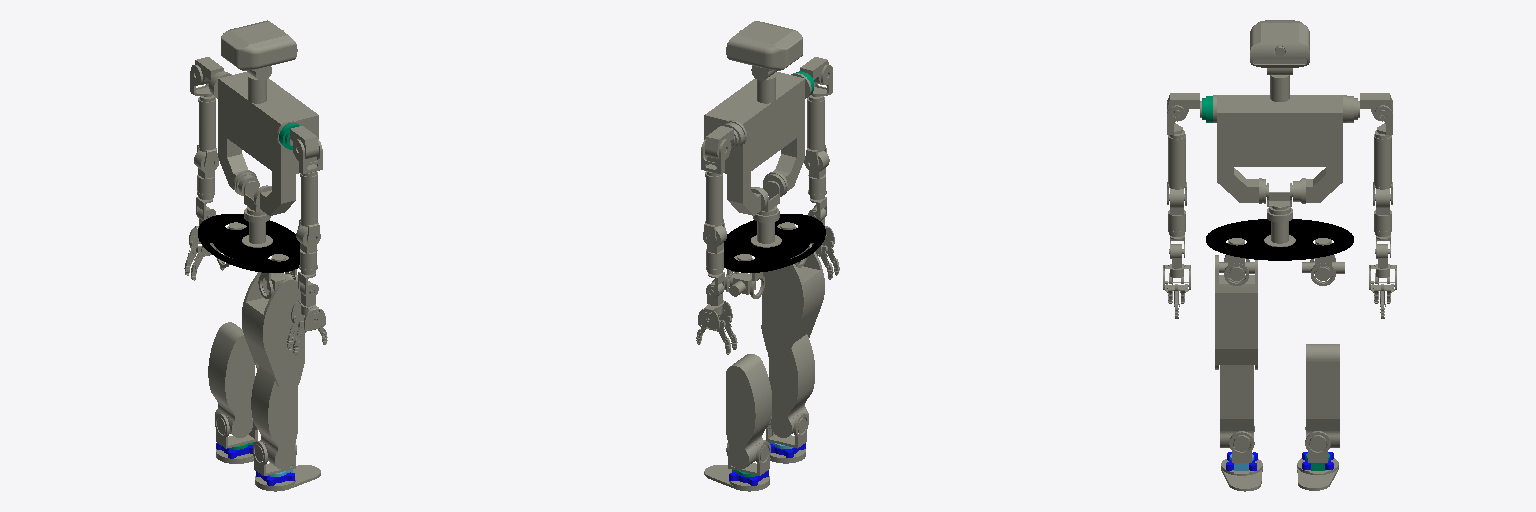
--- What the picture shows (computed from the rendered views, not written in the file) ---
The picture shows the robot from 3 angles, left to right: view 1: azimuth 30°, elevation 25°; view 2: azimuth 150°, elevation 25°; view 3: azimuth 270°, elevation 25°; orthographic projection.
Model teo with 31 links and 30 joints (28 revolute, 2 fixed), rooted at waist, posed all joints at 0.
Links seen in each view (by area): view 1: waist_pitch_link, r_femur_link, waist, l_tibia_link, r_tibia_link, head_pitch_link, r_wrist_pitch_link, l_shoulder_yaw_link, r_shoulder_yaw_link, r_sole, l_wrist_pitch_link, r_elbow_pitch_link (+6 smaller); view 2: waist_pitch_link, r_femur_link, waist, l_tibia_link, r_tibia_link, head_pitch_link, l_wrist_pitch_link, r_shoulder_yaw_link, l_shoulder_yaw_link, l_sole, l_elbow_pitch_link, r_wrist_pitch_link (+6 smaller); view 3: waist_pitch_link, waist, r_femur_link, l_tibia_link, head_pitch_link, r_tibia_link, l_shoulder_yaw_link, r_shoulder_yaw_link, l_wrist_pitch_link, r_wrist_pitch_link, r_sole, l_sole (+6 smaller).
Boxes of the visible links, left/top/right/bottom form: waist_pitch_link: left=209, top=71, right=318, bottom=215; r_femur_link: left=242, top=272, right=304, bottom=391; waist: left=198, top=206, right=299, bottom=272; l_tibia_link: left=208, top=322, right=254, bottom=437; r_tibia_link: left=251, top=365, right=297, bottom=469; head_pitch_link: left=221, top=20, right=297, bottom=80; r_wrist_pitch_link: left=287, top=281, right=327, bottom=355; l_shoulder_yaw_link: left=197, top=95, right=218, bottom=170; r_shoulder_yaw_link: left=298, top=171, right=320, bottom=244; r_sole: left=255, top=465, right=320, bottom=491; l_wrist_pitch_link: left=184, top=206, right=224, bottom=280; r_elbow_pitch_link: left=296, top=226, right=317, bottom=274; waist_pitch_link: left=704, top=71, right=813, bottom=215; r_femur_link: left=761, top=244, right=824, bottom=359; waist: left=724, top=206, right=825, bottom=272; l_tibia_link: left=726, top=354, right=771, bottom=468; r_tibia_link: left=768, top=334, right=814, bottom=437; head_pitch_link: left=726, top=21, right=802, bottom=80; l_wrist_pitch_link: left=696, top=281, right=737, bottom=354; r_shoulder_yaw_link: left=804, top=95, right=826, bottom=170; l_shoulder_yaw_link: left=703, top=171, right=725, bottom=244; l_sole: left=704, top=465, right=769, bottom=491; l_elbow_pitch_link: left=704, top=225, right=726, bottom=274; r_wrist_pitch_link: left=809, top=206, right=839, bottom=279; waist_pitch_link: left=1202, top=95, right=1357, bottom=203; waist: left=1206, top=207, right=1353, bottom=260; r_femur_link: left=1215, top=255, right=1257, bottom=369; l_tibia_link: left=1306, top=344, right=1339, bottom=447; head_pitch_link: left=1250, top=20, right=1309, bottom=77; r_tibia_link: left=1220, top=365, right=1253, bottom=447; l_shoulder_yaw_link: left=1373, top=130, right=1392, bottom=205; r_shoulder_yaw_link: left=1167, top=130, right=1186, bottom=205; l_wrist_pitch_link: left=1369, top=244, right=1396, bottom=318; r_wrist_pitch_link: left=1163, top=244, right=1190, bottom=318; r_sole: left=1221, top=452, right=1262, bottom=491; l_sole: left=1297, top=452, right=1338, bottom=490.
Size in the robot's own frame: 0.3506 by 0.7879 by 1.63 metres.
Meshes: 51 distinct files referenced, 50 mesh visuals loaded (50 binary STL); not drawn: 1 (reference not matched to a file when rendering).

robot.urdf — teo:
<?xml version="1.0" ?>
<!-- =================================================================================== -->
<!-- |    This document was autogenerated by xacro from teo_humanoid_attach.urdf.xacro | -->
<!-- |    EDITING THIS FILE BY HAND IS NOT RECOMMENDED                                 | -->
<!-- =================================================================================== -->
<!--
  ROS urdf definition of TEO humanoid robot
  
  Author: Domingo Esteban, Raul Fernandez Fernandez
  RoboticsLab, Universidad Carlos III de Madrid
  
  This file loads TEO model with a basic visualization.
  If you want to convert this xacro file into an urdf file:
  $ rosrun xacro xacro.py teo_humanoid_simple_vis.urdf.xacro > teo_humanoid.urdf
	If you want to generate a SDF file from the generated URDF: (Requires gazebo)
	$ gzsdf print teo_humanoid.urdf > teo_humanoid.sdf
-->
<robot name="teo" xmlns:xacro="http://ros.org/wiki/xacro">
  <!-- TEO parameters -->
  <!-- TEO structure -->
  <!-- Include useful constants -->
  <!-- Include joint transmissions -->
  <!-- Use TEO platform -->
  <!-- **** Torso - base_link **** -->
  <!-- The robot is attached to the base link "world"-->
  

  <!--

  <link name="world"/>


  
  <joint name="base_waist" type="floating">
    <parent link="world"/>
    <child link="waist"/>
  </joint>
  
  -->

  <!-- Definitions of parts of the robot body -->
  <!-- *** TEO TORSO PARAMETERS -->
  <!-- Relation Kg - Volume Unit -->
  <!-- Link lengths -->
  <!--xacro:property name="waist_link2" value="0.287" /-->
  <!-- Minimum angles -->
  <!-- Maximum angles -->
  <!-- Effort limit of the angles -->
  <!-- Velocity limit of the angles-->
  <!-- Damping of the joints-->
  <!-- Friction of the joints-->
  <!-- IT'S NOT USED IN GAZEBO-->
  <!-- Joint reductions-->
  <!-- *** TORSO TREE -->
  <!-- Links -->
  <link name="waist">
    <inertial>
      <origin rpy="0 0 0" xyz="0.0 0.0 0.030531"/>
      <!-- <origin xyz="-0.011195 0.000002 0.030531" rpy="0 0 0"/> -->
      <mass value="1.0"/>
      <inertia ixx="1.672965e-2" ixy="-4.1e-7" ixz="-4.0359e-4" iyy="8.75441e-3" iyz="8.0e-8" izz="0.020584"/>
    </inertial>
    <!--     <inertial>
      <origin xyz="0.0 0.0 0.57136" rpy="0 0 0"/>
      <mass value="5.7044"/>
      <inertia
        ixx="0.019" ixy="0.000" ixz="0.000"
        iyy="0.018" iyz="0.000"
        izz="0.008" />
    </inertial> -->
    <!--     <inertial>
      <origin xyz="-0.011195 0.000002 0.030531" rpy="0 0 0"/>
      <mass value="1.0"/>
      <inertia
        ixx="1.672965e-5" ixy="-4.1e-10" ixz="-4.0359e-7"
        iyy="8.75441e-6" iyz="8.0e-11"
        izz="0.000020584" />
    </inertial> -->
    <visual>
      <origin rpy="0 0 0" xyz="0 0 0"/>
      <geometry>
        <mesh filename="package://teo_description/meshes/torso/waist-base.stl"/>
      </geometry>
      <material name="teoBlack"/>
    </visual>
    <collision>
      <origin rpy="0 0 0" xyz="0 0 0"/>
      <geometry>
        <mesh filename="package://teo_description/meshes/torso/waist-base.stl"/>
      </geometry>
    </collision>
    <visual>
      <origin rpy="0 0 0" xyz="0 0 0.07336"/>
      <geometry>
        <mesh filename="package://teo_description/meshes/torso/waist-link.stl"/>
      </geometry>
      <material name="teoGray"/>
    </visual>
    <collision>
      <origin rpy="0 0 0" xyz="0 0 0.07336"/>
      <geometry>
        <mesh filename="package://teo_description/meshes/torso/waist-link.stl"/>
      </geometry>
    </collision>
  </link>
  <link name="waist_yaw_link">
    <inertial>
      <origin rpy="0 0 0" xyz="0.0 0.0 -0.024630"/>
      <!-- <origin xyz="-0.004091 -0.001037 -0.024630" rpy="0 0 0"/> -->
      <!-- <mass value="${prop_torso_kg_motor_vol_unit*0.000142}"/> -->
      <mass value="1.0"/>
      <!--     <inertia
			  ixx="0.66667" ixy="-0.25" ixz="-0.25"
				iyy="0.66667" iyz="-0.25"
				izz="0.66667" /> -->
      <!--       <inertia
        ixx="2.8026e-4" ixy="-2.9e-7" ixz="-4.22e-6"
        iyy="1.275e-4" iyz="4.4e-7"
        izz="2.0857e-4" /> -->
      <inertia ixx="0.028026e-2" ixy="-0.000029e-2" ixz="-0.000422e-2" iyy="0.012750e-2" iyz="0.000044e-2" izz="0.020857e-2"/>
    </inertial>
    <visual>
      <origin rpy="0 0 0" xyz="0 0 -0.001"/>
      <geometry>
        <mesh filename="package://teo_description/meshes/torso/waist-yaw.stl"/>
      </geometry>
      <material name="teoGray"/>
    </visual>
    <collision>
      <origin rpy="0 0 0" xyz="0 0 -0.001"/>
      <geometry>
        <mesh filename="package://teo_description/meshes/torso/waist-yaw.stl"/>
      </geometry>
    </collision>
  </link>
  <link name="waist_pitch_link">
    <inertial>
      <origin rpy="0 0 0" xyz="0.038788 -0.000008 0.221233"/>
      <!-- <origin xyz="0.0 -0.0 0.221233" rpy="0 0 0"/> -->
      <mass value="1.0"/>
      <!-- <inertia
        ixx="0.3563817" ixy="-5.5E-6" ixz="-0.014295"
        iyy="0.1422663" iyz="-2.205e-5" 
        izz="0.2704611" />
    </inertial> -->
      <inertia ixx="0.100973e-2" ixy="0.0" ixz="0.0" iyy="0.019175e-2" iyz="0.0" izz="0.100972e-2"/>
    </inertial>
    <visual>
      <origin rpy="0 0 0" xyz="0 0 0"/>
      <geometry>
        <mesh filename="package://teo_description/meshes/torso/waist-pitch.stl"/>
      </geometry>
      <material name="teoGray"/>
    </visual>
    <collision>
      <origin rpy="0 0 0" xyz="0 0 0"/>
      <geometry>
        <mesh filename="package://teo_description/meshes/torso/waist-pitch.stl"/>
      </geometry>
      <material name="teoGray"/>
    </collision>
    <visual>
      <origin rpy="0 0 0" xyz="0 0 0.06"/>
      <geometry>
        <mesh filename="package://teo_description/meshes/torso/torso.stl"/>
      </geometry>
      <material name="teoGray"/>
    </visual>
    <collision>
      <origin rpy="0 0 0" xyz="0 0 0.06"/>
      <geometry>
        <mesh filename="package://teo_description/meshes/torso/torso.stl"/>
      </geometry>
    </collision>
    <visual>
      <origin rpy="0 0 0" xyz="0 0.25486 0.305"/>
      <geometry>
        <mesh filename="package://teo_description/meshes/torso/L-torso-shoulder.stl"/>
      </geometry>
      <material name="teoGray"/>
    </visual>
    <collision>
      <origin rpy="0 0 0" xyz="0 0.25486 0.305"/>
      <geometry>
        <mesh filename="package://teo_description/meshes/torso/L-torso-shoulder.stl"/>
      </geometry>
    </collision>
    <visual>
      <origin rpy="0 0 0" xyz="0 -0.25486 0.305"/>
      <geometry>
        <mesh filename="package://teo_description/meshes/torso/R-torso-shoulder.stl"/>
      </geometry>
      <material name="LightGrey"/>
    </visual>
    <collision>
      <origin rpy="0 0 0" xyz="0 -0.25486 0.305"/>
      <geometry>
        <mesh filename="package://teo_description/meshes/torso/R-torso-shoulder.stl"/>
      </geometry>
    </collision>
  </link>
  <!-- Joints -->
  <joint name="waist_yaw" type="revolute">
    <parent link="waist"/>
    <child link="waist_yaw_link"/>
    <origin rpy="0 0 0" xyz="0.0 0 0.1932"/>
    <axis xyz="0 0 1"/>
    <limit effort="30.0" lower="-0.785398163397" upper="0.785398163397" velocity="3.0"/>
  </joint>
  <joint name="waist_pitch" type="revolute">
    <parent link="waist_yaw_link"/>
    <child link="waist_pitch_link"/>
    <origin rpy="0 0 0" xyz="-0.0 0 0"/>
    <axis xyz="0 1 0"/>
    <limit effort="30.0" lower="-0.174532925199" upper="0.174532925199" velocity="3.0"/>
  </joint>
  <transmission name="waist_yaw_trans">
    <type>transmission_interface/SimpleTransmission</type>
    <joint name="waist_yaw">
      <hardwareInterface>PositionJointInterface</hardwareInterface>
    </joint>
    <actuator name="waist_yaw_motor">
      <mechanicalReduction>1.0</mechanicalReduction>
    </actuator>
  </transmission>
  <transmission name="waist_pitch_trans">
    <type>transmission_interface/SimpleTransmission</type>
    <joint name="waist_pitch">
      <hardwareInterface>PositionJointInterface</hardwareInterface>
    </joint>
    <actuator name="waist_pitch_motor">
      <mechanicalReduction>1.0</mechanicalReduction>
    </actuator>
  </transmission>
  <!-- *** TEO HEAD PARAMETERS -->
  <!-- Relation Kg - Volume Unit -->
  <!-- Link lengths -->
  <!--xacro:property name="waist_link2" value="0.287" /-->
  <!-- head_link2 is an approximate value, right now this value is not relevant /-->
  <!-- Minimum angles -->
  <!-- Maximum angles -->
  <!-- Effort limit of the angles -->
  <!-- Velocity limit of the angles-->
  <!-- Damping of the joints-->
  <!-- Friction of the joints-->
  <!-- IT'S NOT USED IN GAZEBO-->
  <!-- Joint reductions-->
  <!-- *** HEAD TREE -->
  <!-- Links -->
  <link name="head_yaw_link">
    <inertial>
      <origin rpy="0 0 0" xyz="0.0 0.0 -0.045"/>
      <mass value="1.0"/>
      <inertia ixx="0.028026e-2" ixy="-0.0" ixz="-0.0" iyy="0.028026e-2" iyz="0.0" izz="0.015756e-2"/>
    </inertial>
    <visual>
      <origin rpy="0 0 0" xyz="0 0 0.041"/>
      <geometry>
        <mesh filename="package://teo_description/meshes/head/neck.stl"/>
      </geometry>
      <material name="teoGray"/>
    </visual>
    <collision>
      <origin rpy="0 0 0" xyz="0 0 0.041"/>
      <geometry>
        <mesh filename="package://teo_description/meshes/head/neck.stl"/>
      </geometry>
    </collision>
  </link>
  <link name="head_pitch_link">
    <inertial>
      <origin rpy="0 0 0" xyz="-0.004280 0.0 0.105394"/>
      <mass value="1.0"/>
      <inertia ixx="1.469540" ixy="-0.000003" ixz="-0.012716" iyy="1.610027" iyz="0.000005" izz="2.205351"/>
    </inertial>
    <visual>
      <origin rpy="0 0 0" xyz="0 0 0"/>
      <geometry>
        <mesh filename="package://teo_description/meshes/head/head.stl"/>
      </geometry>
      <material name="teoGray"/>
    </visual>
    <collision>
      <origin rpy="0 0 0" xyz="0 0 0"/>
      <geometry>
        <mesh filename="package://teo_description/meshes/head/head.stl"/>
      </geometry>
    </collision>
  </link>
  <!-- Joints -->
  <joint name="head_yaw" type="revolute">
    <parent link="waist_pitch_link"/>
    <child link="head_yaw_link"/>
    <origin rpy="0 0 0" xyz="0 0 0.305"/>
    <axis xyz="0 0 1"/>
    <limit effort="30.0" lower="-0.506145483078" upper="0.146607657168" velocity="3.0"/>
  </joint>
  <joint name="head_pitch" type="revolute">
    <parent link="head_yaw_link"/>
    <child link="head_pitch_link"/>
    <origin rpy="0 0 0" xyz="0 0 0.13"/>
    <axis xyz="0 1 0"/>
    <limit effort="30.0" lower="-1.27409035396" upper="1.27409035396" velocity="3.0"/>
  </joint>
  <transmission name="waist_yaw_trans">
    <type>transmission_interface/SimpleTransmission</type>
    <joint name="waist_yaw">
      <hardwareInterface>PositionJointInterface</hardwareInterface>
    </joint>
    <actuator name="waist_yaw_motor">
      <mechanicalReduction>1.0</mechanicalReduction>
    </actuator>
  </transmission>
  <transmission name="waist_pitch_trans">
    <type>transmission_interface/SimpleTransmission</type>
    <joint name="waist_pitch">
      <hardwareInterface>PositionJointInterface</hardwareInterface>
    </joint>
    <actuator name="waist_pitch_motor">
      <mechanicalReduction>1.0</mechanicalReduction>
    </actuator>
  </transmission>
  <!-- *** TEO LEG PARAMETERS -->
  <!-- Relation Kg - Volume Unit -->
  <!-- Relation Kg - Volume Unit -->
  <!-- Relation Kg - Volume Unit -->
  <!-- Link lengths -->
  <!-- Hip -->
  <!-- Hip -->
  <!-- Femur -->
  <!-- Tibia -->
  <!-- Patella -->
  <!-- Astragalus -->
  <!-- Minimum angles right leg -->
  <!-- Maximum angles right leg -->
  <!-- Effort limit of the angles -->
  <!-- Velocity limit of the angles-->
  <!-- Damping of the joints-->
  <!-- Friction of the joints-->
  <!-- IT'S NOT USED IN GAZEBO-->
  <!-- Joint reductions-->
  <!-- *** TEO LEG MACROS -->
  <!-- Links -->
  <!-- Joints -->
  <link name="l_hip_yaw_link">
    <inertial>
      <origin rpy="0 0 0" xyz="0.0 -0.0 0.0"/>
      <mass value="1.0"/>
      <inertia ixx="3.4076E-4" ixy="-0.0" ixz="5.4E-7" iyy="5.7638E-4" iyz="-0.0" izz="0.037186e-2"/>
    </inertial>
    <visual>
      <origin rpy="0 0 0" xyz="0 0 0"/>
      <geometry>
        <mesh filename="package://teo_description/meshes/legs/l_hip_yaw.stl"/>
      </geometry>
      <material name="teoGray"/>
    </visual>
    <collision>
      <origin rpy="0 0 0" xyz="0 0 0"/>
      <geometry>
        <mesh filename="package://teo_description/meshes/legs/l_hip_yaw.stl"/>
      </geometry>
    </collision>
  </link>
  <link name="l_hip_roll_link">
    <inertial>
      <origin rpy="0 0 0" xyz="0.0 -0.0 -0.017753"/>
      <mass value="1.0"/>
      <inertia ixx="3.6847E-4" ixy="-4.34e-06" ixz="1.0E-8" iyy="1.9052E-4" iyz="-0.0" izz="4.5536E-4"/>
    </inertial>
    <visual>
      <origin rpy="0 0 0" xyz="0 0 0"/>
      <geometry>
        <mesh filename="package://teo_description/meshes/legs/l_hip_pitch.stl"/>
      </geometry>
      <material name="teoGray"/>
    </visual>
    <collision>
      <origin rpy="0 0 0" xyz="0 0 0"/>
      <geometry>
        <mesh filename="package://teo_description/meshes/legs/l_hip_pitch.stl"/>
      </geometry>
    </collision>
  </link>
  <link name="l_femur_link">
    <inertial>
      <origin rpy="0 0 0" xyz="0.0 -0.0 -0.17257"/>
      <mass value="1.0"/>
      <inertia ixx="4.453648E-2" ixy="1e-08" ixz="0.00130498" iyy="4.46349E-2" iyz="-4e-08" izz="2.207083E-2"/>
    </inertial>
    <visual>
      <origin rpy="0 0 0" xyz="0 0 0"/>
      <geometry>
        <mesh filename="package://teo_description/meshes/legs/l_femur.stl"/>
      </geometry>
      <material name="teoGray"/>
    </visual>
    <collision>
      <origin rpy="0 0 0" xyz="0 0 0"/>
      <geometry>
        <mesh filename="package://teo_description/meshes/legs/l_femur.stl"/>
      </geometry>
    </collision>
  </link>
  <link name="l_tibia_link">
    <inertial>
      <origin rpy="0 0 0" xyz="0.0 -0.0 -0.142721"/>
      <mass value="1.0"/>
      <inertia ixx="4.644211E-2" ixy="-0.0" ixz="-7.32E-6" iyy="4.548272E-2" iyz="1e-08" izz="8.16616E-3"/>
    </inertial>
    <visual>
      <origin rpy="0 0 0" xyz="0.0 0.0 0.0"/>
      <geometry>
        <mesh filename="package://teo_description/meshes/legs/l_tibia.stl"/>
      </geometry>
      <material name="teoGray"/>
    </visual>
    <collision>
      <origin rpy="0 0 0" xyz="0.0 0.0 0.0"/>
      <geometry>
        <mesh filename="package://teo_description/meshes/legs/l_tibia.stl"/>
      </geometry>
    </collision>
  </link>
  <link name="l_ankle_pitch_link">
    <inertial>
      <origin rpy="0 0 0" xyz="0.0 -0.0 0.028198"/>
      <mass value="1.0"/>
      <inertia ixx="0.010237e-2" ixy="-1.4e-05" ixz="0.0" iyy="0.035107e-2" iyz="0.0" izz="0.035006e-2"/>
    </inertial>
    <visual>
      <origin rpy="0 0 0" xyz="0 0 0"/>
      <geometry>
        <mesh filename="package://teo_description/meshes/legs/l_ankle_pitch.stl"/>
      </geometry>
      <material name="teoGray"/>
    </visual>
    <collision>
      <origin rpy="0 0 0" xyz="0 0 0"/>
      <geometry>
        <mesh filename="package://teo_description/meshes/legs/l_ankle_pitch.stl"/>
      </geometry>
    </collision>
  </link>
  <link name="l_astragalus_link">
    <inertial>
      <origin rpy="0 0 0" xyz="0.0 -0.0 -0.042127"/>
      <mass value="1.0"/>
      <inertia ixx="2.6324E-4" ixy="-0.0" ixz="7.4E-6" iyy="0.000571" iyz="-0.0" izz="4.633E-4"/>
    </inertial>
    <visual>
      <origin rpy="0 0 0" xyz="0 0 0"/>
      <geometry>
        <mesh filename="package://teo_description/meshes/legs/l_ankle_roll.stl"/>
      </geometry>
      <material name="teoGray"/>
    </visual>
    <collision>
      <origin rpy="0 0 0" xyz="0 0 0"/>
      <geometry>
        <mesh filename="package://teo_description/meshes/legs/l_ankle_roll.stl"/>
      </geometry>
    </collision>
    <visual>
      <origin rpy="0 0 0" xyz="0 0 -0.073"/>
      <geometry>
        <mesh filename="package://teo_description/meshes/legs/l_ankle_sensorFT.stl"/>
      </geometry>
    </visual>
    <collision>
      <origin rpy="0 0 0" xyz="0 0 -0.073"/>
      <geometry>
        <mesh filename="package://teo_description/meshes/legs/l_ankle_sensorFT.stl"/>
      </geometry>
    </collision>
  </link>
  <link name="l_sole">
    <inertial>
      <origin rpy="0 0 0" xyz="0.022629 -0.002448 0.011325"/>
      <mass value="1.0"/>
      <inertia ixx="0.065992e-2" ixy="-0.00010716" ixz="0.008960e-2" iyy="0.167825e-2" iyz="8.47e-06" izz="0.225319e-2"/>
    </inertial>
    <visual>
      <origin rpy="0 0 0" xyz="0 0 0"/>
      <geometry>
        <mesh filename="package://teo_description/meshes/legs/l_foot.stl"/>
      </geometry>
      <material name="teoGray"/>
    </visual>
    <collision>
      <origin rpy="0 0 0" xyz="0 0 0"/>
      <geometry>
        <mesh filename="package://teo_description/meshes/legs/l_foot.stl"/>
      </geometry>
    </collision>
    <visual>
      <origin rpy="0 0 0" xyz="0 0 0"/>
      <geometry>
        <mesh filename="package://teo_description/meshes/legs/l_union_sensorFT_foot.stl"/>
      </geometry>
      <material name="teoBlue"/>
    </visual>
    <collision>
      <origin rpy="0 0 0" xyz="0 0 0"/>
      <geometry>
        <mesh filename="package://teo_description/meshes/legs/l_union_sensorFT_foot.stl"/>
      </geometry>
    </collision>
  </link>
  <link name="r_hip_yaw_link">
    <inertial>
      <origin rpy="0 0 0" xyz="0.0 0.0 0.0"/>
      <mass value="1.0"/>
      <inertia ixx="3.4076E-4" ixy="0.0" ixz="5.4E-7" iyy="5.7638E-4" iyz="0.0" izz="0.037186e-2"/>
    </inertial>
    <visual>
      <origin rpy="0 0 0" xyz="0 0 0"/>
      <geometry>
        <mesh filename="package://teo_description/meshes/legs/r_hip_yaw.stl"/>
      </geometry>
      <material name="teoGray"/>
    </visual>
    <collision>
      <origin rpy="0 0 0" xyz="0 0 0"/>
      <geometry>
        <mesh filename="package://teo_description/meshes/legs/r_hip_yaw.stl"/>
      </geometry>
    </collision>
  </link>
  <link name="r_hip_roll_link">
    <inertial>
      <origin rpy="0 0 0" xyz="0.0 0.0 -0.017753"/>
      <mass value="1.0"/>
      <inertia ixx="3.6847E-4" ixy="4.34e-06" ixz="1.0E-8" iyy="1.9052E-4" iyz="0.0" izz="4.5536E-4"/>
    </inertial>
    <visual>
      <origin rpy="0 0 0" xyz="0 0 0"/>
      <geometry>
        <mesh filename="package://teo_description/meshes/legs/r_hip_pitch.stl"/>
      </geometry>
      <material name="teoGray"/>
    </visual>
    <collision>
      <origin rpy="0 0 0" xyz="0 0 0"/>
      <geometry>
        <mesh filename="package://teo_description/meshes/legs/r_hip_pitch.stl"/>
      </geometry>
    </collision>
  </link>
  <link name="r_femur_link">
    <inertial>
      <origin rpy="0 0 0" xyz="0.0 0.0 -0.17257"/>
      <mass value="1.0"/>
      <inertia ixx="4.453648E-2" ixy="-1e-08" ixz="0.00130498" iyy="4.46349E-2" iyz="4e-08" izz="2.207083E-2"/>
    </inertial>
    <visual>
      <origin rpy="0 0 0" xyz="0 0 0"/>
      <geometry>
        <mesh filename="package://teo_description/meshes/legs/r_femur.stl"/>
      </geometry>
      <material name="teoGray"/>
    </visual>
    <collision>
      <origin rpy="0 0 0" xyz="0 0 0"/>
      <geometry>
        <mesh filename="package://teo_description/meshes/legs/r_femur.stl"/>
      </geometry>
    </collision>
  </link>
  <link name="r_tibia_link">
    <inertial>
      <origin rpy="0 0 0" xyz="0.0 0.0 -0.142721"/>
      <mass value="1.0"/>
      <inertia ixx="4.644211E-2" ixy="0.0" ixz="-7.32E-6" iyy="4.548272E-2" iyz="-1e-08" izz="8.16616E-3"/>
    </inertial>
    <visual>
      <origin rpy="0 0 0" xyz="0.0 0.0 0.0"/>
      <geometry>
        <mesh filename="package://teo_description/meshes/legs/r_tibia.stl"/>
      </geometry>
      <material name="teoGray"/>
    </visual>
    <collision>
      <origin rpy="0 0 0" xyz="0.0 0.0 0.0"/>
      <geometry>
        <mesh filename="package://teo_description/meshes/legs/r_tibia.stl"/>
      </geometry>
    </collision>
  </link>
  <link name="r_ankle_pitch_link">
    <inertial>
      <origin rpy="0 0 0" xyz="0.0 0.0 0.028198"/>
      <mass value="1.0"/>
      <inertia ixx="0.010237e-2" ixy="1.4e-05" ixz="0.0" iyy="0.035107e-2" iyz="-0.0" izz="0.035006e-2"/>
    </inertial>
    <visual>
      <origin rpy="0 0 0" xyz="0 0 0"/>
      <geometry>
        <mesh filename="package://teo_description/meshes/legs/r_ankle_pitch.stl"/>
      </geometry>
      <material name="teoGray"/>
    </visual>
    <collision>
      <origin rpy="0 0 0" xyz="0 0 0"/>
      <geometry>
        <mesh filename="package://teo_description/meshes/legs/r_ankle_pitch.stl"/>
      </geometry>
    </collision>
  </link>
  <link name="r_astragalus_link">
    <inertial>
      <origin rpy="0 0 0" xyz="0.0 0.0 -0.042127"/>
      <mass value="1.0"/>
      <inertia ixx="2.6324E-4" ixy="0.0" ixz="7.4E-6" iyy="0.000571" iyz="0.0" izz="4.633E-4"/>
    </inertial>
    <visual>
      <origin rpy="0 0 0" xyz="0 0 0"/>
      <geometry>
        <mesh filename="package://teo_description/meshes/legs/r_ankle_roll.stl"/>
      </geometry>
      <material name="teoGray"/>
    </visual>
    <collision>
      <origin rpy="0 0 0" xyz="0 0 0"/>
      <geometry>
        <mesh filename="package://teo_description/meshes/legs/r_ankle_roll.stl"/>
      </geometry>
    </collision>
    <visual>
      <origin rpy="0 0 0" xyz="0 0 -0.073"/>
      <geometry>
        <mesh filename="package://teo_description/meshes/legs/r_ankle_sensorFT.stl"/>
      </geometry>
    </visual>
    <collision>
      <origin rpy="0 0 0" xyz="0 0 -0.073"/>
      <geometry>
        <mesh filename="package://teo_description/meshes/legs/r_ankle_sensorFT.stl"/>
      </geometry>
    </collision>
  </link>
  <link name="r_sole">
    <inertial>
      <origin rpy="0 0 0" xyz="0.022629 0.002448 0.011325"/>
      <mass value="1.0"/>
      <inertia ixx="0.065992e-2" ixy="0.00010716" ixz="0.008960e-2" iyy="0.167825e-2" iyz="-8.47e-06" izz="0.225319e-2"/>
    </inertial>
    <visual>
      <origin rpy="0 0 0" xyz="0 0 0"/>
      <geometry>
        <mesh filename="package://teo_description/meshes/legs/r_foot.stl"/>
      </geometry>
      <material name="teoGray"/>
    </visual>
    <collision>
      <origin rpy="0 0 0" xyz="0 0 0"/>
      <geometry>
        <mesh filename="package://teo_description/meshes/legs/r_foot.stl"/>
      </geometry>
    </collision>
    <visual>
      <origin rpy="0 0 0" xyz="0 0 0"/>
      <geometry>
        <mesh filename="package://teo_description/meshes/legs/r_union_sensorFT_foot.stl"/>
      </geometry>
      <material name="teoBlue"/>
    </visual>
    <collision>
      <origin rpy="0 0 0" xyz="0 0 0"/>
      <geometry>
        <mesh filename="package://teo_description/meshes/legs/r_union_sensorFT_foot.stl"/>
      </geometry>
    </collision>
  </link>
  <joint name="l_hip_yaw" type="revolute">
    <parent link="waist"/>
    <child link="l_hip_yaw_link"/>
    <origin rpy="0 0 0" xyz="0 0.146 -0.092"/>
    <axis xyz="0 0 1.0"/>
    <limit effort="45.0" lower="-1.57079632679" upper="1.57079632679" velocity="4.0"/>
    <dynamics damping="1.0" friction="1.0"/>
  </joint>
  <joint name="l_hip_roll" type="revolute">
    <parent link="l_hip_yaw_link"/>
    <child link="l_hip_roll_link"/>
    <origin rpy="0 0 0" xyz="0 0 0"/>
    <axis xyz="-1 0 0"/>
    <limit effort="65.0" lower="-0.349065850399" upper="0.349065850399" velocity="4.0"/>
    <dynamics damping="1.0" friction="1.0"/>
  </joint>
  <joint name="l_hip_pitch" type="revolute">
    <parent link="l_hip_roll_link"/>
    <child link="l_femur_link"/>
    <origin rpy="0 0 0" xyz="0 0 0"/>
    <axis xyz="0 1 0"/>
    <limit effort="60.0" lower="-0.523598775598" upper="0.785398163397" velocity="4.0"/>
    <dynamics damping="1.0" friction="1.0"/>
  </joint>
  <joint name="l_knee_pitch" type="revolute">
    <parent link="l_femur_link"/>
    <child link="l_tibia_link"/>
    <origin rpy="0 0 0" xyz="0 0 -0.33"/>
    <axis xyz="0 1 0"/>
    <limit effort="140.0" lower="-0.0872664625997" upper="1.3962634016" velocity="4.0"/>
    <dynamics damping="1.0" friction="1.0"/>
  </joint>
  <joint name="l_ankle_pitch" type="revolute">
    <parent link="l_tibia_link"/>
    <child link="l_ankle_pitch_link"/>
    <origin rpy="0 0 0" xyz="0 -0.0175 -0.3"/>
    <axis xyz="0 1 0"/>
    <limit effort="85.0" lower="-0.314159265359" upper="0.349065850399" velocity="4.0"/>
    <dynamics damping="1.0" friction="1.0"/>
  </joint>
  <joint name="l_ankle_roll" type="revolute">
    <parent link="l_ankle_pitch_link"/>
    <child link="l_astragalus_link"/>
    <origin rpy="0 0 0" xyz="0 0 0"/>
    <axis xyz="-1 0 0"/>
    <limit effort="65.0" lower="-0.436332312999" upper="0.436332312999" velocity="4.0"/>
    <dynamics damping="1.0" friction="1.0"/>
  </joint>
  <joint name="l_sole_joint" type="fixed">
    <parent link="l_astragalus_link"/>
    <child link="l_sole"/>
    <origin rpy="0 0 0" xyz="0 0 -0.124"/>
  </joint>
  <!-- <joint name="${side}_sole_fixed" type="fixed">	    
      <parent link="world"/>    
      <child link="${side}_sole"/>
    </joint> -->
  <!--TODO: Delete the fixed joints using a /map->/base_link publisher for the control-->
  <transmission name="l_hip_yaw_trans">
    <type>transmission_interface/SimpleTransmission</type>
    <joint name="l_hip_yaw">
      <hardwareInterface>PositionJointInterface</hardwareInterface>
    </joint>
    <actuator name="l_hip_yaw_motor">
      <hardwareInterface>PositionJointInterface</hardwareInterface>
      <mechanicalReduction>1.0</mechanicalReduction>
    </actuator>
  </transmission>
  <transmission name="l_hip_roll_trans">
    <type>transmission_interface/SimpleTransmission</type>
    <joint name="l_hip_roll">
      <hardwareInterface>PositionJointInterface</hardwareInterface>
    </joint>
    <actuator name="l_hip_roll_motor">
      <hardwareInterface>PositionJointInterface</hardwareInterface>
      <mechanicalReduction>1.0</mechanicalReduction>
    </actuator>
  </transmission>
  <transmission name="l_hip_pitch_trans">
    <type>transmission_interface/SimpleTransmission</type>
    <joint name="l_hip_pitch">
      <hardwareInterface>PositionJointInterface</hardwareInterface>
    </joint>
    <actuator name="l_hip_pitch_motor">
      <hardwareInterface>PositionJointInterface</hardwareInterface>
      <mechanicalReduction>1.0</mechanicalReduction>
    </actuator>
  </transmission>
  <transmission name="l_knee_pitch_trans">
    <type>transmission_interface/SimpleTransmission</type>
    <joint name="l_knee_pitch">
      <hardwareInterface>PositionJointInterface</hardwareInterface>
    </joint>
    <actuator name="l_knee_pitch_motor">
      <hardwareInterface>PositionJointInterface</hardwareInterface>
      <mechanicalReduction>1.0</mechanicalReduction>
    </actuator>
  </transmission>
  <transmission name="l_ankle_pitch_trans">
    <type>transmission_interface/SimpleTransmission</type>
    <joint name="l_ankle_pitch">
      <hardwareInterface>PositionJointInterface</hardwareInterface>
    </joint>
    <actuator name="l_ankle_pitch_motor">
      <hardwareInterface>PositionJointInterface</hardwareInterface>
      <mechanicalReduction>1.0</mechanicalReduction>
    </actuator>
  </transmission>
  <transmission name="l_ankle_roll_trans">
    <type>transmission_interface/SimpleTransmission</type>
    <joint name="l_ankle_roll">
      <hardwareInterface>PositionJointInterface</hardwareInterface>
    </joint>
    <actuator name="l_ankle_roll_motor">
      <hardwareInterface>PositionJointInterface</hardwareInterface>
      <mechanicalReduction>1.0</mechanicalReduction>
    </actuator>
  </transmission>
  <joint name="r_hip_yaw" type="revolute">
    <parent link="waist"/>
    <child link="r_hip_yaw_link"/>
    <origin rpy="0 0 0" xyz="0 -0.146 -0.092"/>
    <axis xyz="0 0 -1.0"/>
    <limit effort="45.0" lower="-1.57079632679" upper="1.57079632679" velocity="4.0"/>
    <dynamics damping="1.0" friction="1.0"/>
  </joint>
  <joint name="r_hip_roll" type="revolute">
    <parent link="r_hip_yaw_link"/>
    <child link="r_hip_roll_link"/>
    <origin rpy="0 0 0" xyz="0 0 0"/>
    <axis xyz="-1 0 0"/>
    <limit effort="65.0" lower="-0.349065850399" upper="0.349065850399" velocity="4.0"/>
    <dynamics damping="1.0" friction="1.0"/>
  </joint>
  <joint name="r_hip_pitch" type="revolute">
    <parent link="r_hip_roll_link"/>
    <child link="r_femur_link"/>
    <origin rpy="0 0 0" xyz="0 0 0"/>
    <axis xyz="0 1 0"/>
    <limit effort="60.0" lower="-0.523598775598" upper="0.785398163397" velocity="4.0"/>
    <dynamics damping="1.0" friction="1.0"/>
  </joint>
  <joint name="r_knee_pitch" type="revolute">
    <parent link="r_femur_link"/>
    <child link="r_tibia_link"/>
    <origin rpy="0 0 0" xyz="0 0 -0.33"/>
    <axis xyz="0 1 0"/>
    <limit effort="140.0" lower="-0.0872664625997" upper="1.3962634016" velocity="4.0"/>
    <dynamics damping="1.0" friction="1.0"/>
  </joint>
  <joint name="r_ankle_pitch" type="revolute">
    <parent link="r_tibia_link"/>
    <child link="r_ankle_pitch_link"/>
    <origin rpy="0 0 0" xyz="0 0.0175 -0.3"/>
    <axis xyz="0 1 0"/>
    <limit effort="85.0" lower="-0.314159265359" upper="0.349065850399" velocity="4.0"/>
    <dynamics damping="1.0" friction="1.0"/>
  </joint>
  <joint name="r_ankle_roll" type="revolute">
    <parent link="r_ankle_pitch_link"/>
    <child link="r_astragalus_link"/>
    <origin rpy="0 0 0" xyz="0 0 0"/>
    <axis xyz="-1 0 0"/>
    <limit effort="65.0" lower="-0.436332312999" upper="0.436332312999" velocity="4.0"/>
    <dynamics damping="1.0" friction="1.0"/>
  </joint>
  <joint name="r_sole_joint" type="fixed">
    <parent link="r_astragalus_link"/>
    <child link="r_sole"/>
    <origin rpy="0 0 0" xyz="0 0 -0.124"/>
  </joint>
  <!-- <joint name="${side}_sole_fixed" type="fixed">	    
      <parent link="world"/>    
      <child link="${side}_sole"/>
    </joint> -->
  <!--TODO: Delete the fixed joints using a /map->/base_link publisher for the control-->
  <transmission name="r_hip_yaw_trans">
    <type>transmission_interface/SimpleTransmission</type>
    <joint name="r_hip_yaw">
      <hardwareInterface>PositionJointInterface</hardwareInterface>
    </joint>
    <actuator name="r_hip_yaw_motor">
      <hardwareInterface>PositionJointInterface</hardwareInterface>
      <mechanicalReduction>1.0</mechanicalReduction>
    </actuator>
  </transmission>
  <transmission name="r_hip_roll_trans">
    <type>transmission_interface/SimpleTransmission</type>
    <joint name="r_hip_roll">
      <hardwareInterface>PositionJointInterface</hardwareInterface>
    </joint>
    <actuator name="r_hip_roll_motor">
      <hardwareInterface>PositionJointInterface</hardwareInterface>
      <mechanicalReduction>1.0</mechanicalReduction>
    </actuator>
  </transmission>
  <transmission name="r_hip_pitch_trans">
    <type>transmission_interface/SimpleTransmission</type>
    <joint name="r_hip_pitch">
      <hardwareInterface>PositionJointInterface</hardwareInterface>
    </joint>
    <actuator name="r_hip_pitch_motor">
      <hardwareInterface>PositionJointInterface</hardwareInterface>
      <mechanicalReduction>1.0</mechanicalReduction>
    </actuator>
  </transmission>
  <transmission name="r_knee_pitch_trans">
    <type>transmission_interface/SimpleTransmission</type>
    <joint name="r_knee_pitch">
      <hardwareInterface>PositionJointInterface</hardwareInterface>
    </joint>
    <actuator name="r_knee_pitch_motor">
      <hardwareInterface>PositionJointInterface</hardwareInterface>
      <mechanicalReduction>1.0</mechanicalReduction>
    </actuator>
  </transmission>
  <transmission name="r_ankle_pitch_trans">
    <type>transmission_interface/SimpleTransmission</type>
    <joint name="r_ankle_pitch">
      <hardwareInterface>PositionJointInterface</hardwareInterface>
    </joint>
    <actuator name="r_ankle_pitch_motor">
      <hardwareInterface>PositionJointInterface</hardwareInterface>
      <mechanicalReduction>1.0</mechanicalReduction>
    </actuator>
  </transmission>
  <transmission name="r_ankle_roll_trans">
    <type>transmission_interface/SimpleTransmission</type>
    <joint name="r_ankle_roll">
      <hardwareInterface>PositionJointInterface</hardwareInterface>
    </joint>
    <actuator name="r_ankle_roll_motor">
      <hardwareInterface>PositionJointInterface</hardwareInterface>
      <mechanicalReduction>1.0</mechanicalReduction>
    </actuator>
  </transmission>
  <!-- *** TEO ARM PARAMETERS -->
  <!-- Link lengths (meters)-->
  <!-- Clavicle -->
  <!-- Humerus -->
  <!-- Ulna -->
  <!-- Minimum angles right arm  (degrees) -->
  <!-- Maximum angles right arm (degrees) -->
  <!-- Effort limit of the angles -->
  <!-- Velocity limit of the angles-->
  <!-- Damping of the joints-->
  <!-- Friction of the joints-->
  <!-- IT'S NOT USED IN GAZEBO-->
  <!-- Joint reductions-->
  <!-- *** TEO ARM MACROS -->
  <!-- Links -->
  <!-- Joints -->
  <link name="l_shoulder_pitch_link">
    <inertial>
      <origin rpy="0 0 0" xyz="0.0 0.0 0.0"/>
      <mass value="0.005"/>
      <inertia ixx="0.059121e-2" ixy="0.000603e-2" ixz="0.000103e-2" iyy="0.024956e-2" iyz="0.005131e-2" izz="0.050653e-2"/>
    </inertial>
    <visual>
      <origin rpy="0 0 0" xyz="0 0 0"/>
      <geometry>
        <mesh filename="package://teo_description/meshes/arms/l_shoulder_pitch.stl"/>
      </geometry>
      <material name="teoGray"/>
    </visual>
    <collision>
      <origin rpy="0 0 0" xyz="0 0 0"/>
      <geometry>
        <mesh filename="package://teo_description/meshes/arms/l_shoulder_pitch.stl"/>
      </geometry>
    </collision>
  </link>
  <link name="l_shoulder_roll_link">
    <inertial>
      <origin rpy="0 0 0" xyz="0.0 0.0 0.0"/>
      <mass value="0.005"/>
      <inertia ixx="0.018036e-2" ixy="-0.000773e-2" ixz="0.002406e-2" iyy="0.024499e-2" iyz="0.001826e-2" izz="0.013143e-2"/>
    </inertial>
    <visual>
      <origin rpy="0 0 0" xyz="0 0 0"/>
      <geometry>
        <mesh filename="package://teo_description/meshes/arms/l_shoulder_roll.stl"/>
      </geometry>
      <material name="teoGray"/>
    </visual>
    <collision>
      <origin rpy="0 0 0" xyz="0 0 0"/>
      <geometry>
        <mesh filename="package://teo_description/meshes/arms/l_shoulder_roll.stl"/>
      </geometry>
    </collision>
  </link>
  <link name="l_shoulder_yaw_link">
    <inertial>
      <origin rpy="0 0 0" xyz="0.0 0.0 0.0"/>
      <mass value="1.750625"/>
      <inertia ixx="0.227681e-2" ixy="0.0" ixz="0.0" iyy="0.224821e-2" iyz="-0.000684e-2" izz="0.032283e-2"/>
    </inertial>
    <visual>
      <origin rpy="0 0 0" xyz="0 0 -0.12126"/>
      <geometry>
        <mesh filename="package://teo_description/meshes/arms/l_shoulder_yaw.stl"/>
      </geometry>
      <material name="teoGray"/>
    </visual>
    <collision>
      <origin rpy="0 0 0" xyz="0 0 -0.12126"/>
      <geometry>
        <mesh filename="package://teo_description/meshes/arms/l_shoulder_yaw.stl"/>
      </geometry>
    </collision>
    <visual>
      <origin rpy="0 0 0" xyz="0 0 -0.27651"/>
      <geometry>
        <mesh filename="package://teo_description/meshes/arms/l_humerus.stl"/>
      </geometry>
      <material name="teoGray"/>
    </visual>
    <collision>
      <origin rpy="0 0 0" xyz="0 0 -0.27651"/>
      <geometry>
        <mesh filename="package://teo_description/meshes/arms/l_humerus.stl"/>
      </geometry>
    </collision>
    <visual>
      <origin rpy="0 0 0" xyz="0 0 -0.28351"/>
      <geometry>
        <mesh filename="package://teo_description/meshes/arms/l_union_humerus_elbow.stl"/>
      </geometry>
      <material name="teoGray"/>
    </visual>
    <collision>
      <origin rpy="0 0 0" xyz="0 0 -0.28351"/>
      <geometry>
        <mesh filename="package://teo_description/meshes/arms/l_union_humerus_elbow.stl"/>
      </geometry>
    </collision>
  </link>
  <link name="l_elbow_pitch_link">
    <inertial>
      <origin rpy="0 0 0" xyz="0.0 0.001 -0.000588"/>
      <mass value="2.396"/>
      <inertia ixx="0.059390e-2" ixy="0.0" ixz="0.0" iyy="0.060871e-2" iyz="-0.0" izz="0.023257e-2"/>
       --&gt;
      
    </inertial>
    <visual>
      <origin rpy="0 0 0" xyz="0 0 0"/>
      <geometry>
        <mesh filename="package://teo_description/meshes/arms/l_elbow_pitch.stl"/>
      </geometry>
      <material name="teoGray"/>
    </visual>
    <collision>
      <origin rpy="0 0 0" xyz="0 0 0"/>
      <geometry>
        <mesh filename="package://teo_description/meshes/arms/l_elbow_pitch.stl"/>
      </geometry>
    </collision>
    <visual>
      <origin rpy="0 0 0" xyz="0 0 -0.11324"/>
      <geometry>
        <mesh filename="package://teo_description/meshes/arms/l_elbow_link.stl"/>
      </geometry>
      <material name="teoGray"/>
    </visual>
    <collision>
      <origin rpy="0 0 0" xyz="0 0 -0.11324"/>
      <geometry>
        <mesh filename="package://teo_description/meshes/arms/l_elbow_link.stl"/>
      </geometry>
    </collision>
    <visual>
      <origin rpy="0 0 0" xyz="0 0 -0.11324"/>
      <geometry>
        <mesh filename="package://teo_description/meshes/arms/l_union_elbow_wrist.stl"/>
      </geometry>
      <material name="teoGray"/>
    </visual>
    <collision>
      <origin rpy="0 0 0" xyz="0 0 -0.11324"/>
      <geometry>
        <mesh filename="package://teo_description/meshes/arms/l_union_elbow_wrist.stl"/>
      </geometry>
    </collision>
  </link>
  <link name="l_wrist_yaw_link">
    <inertial>
      <origin rpy="0 0 0" xyz="-0.004657 -0.001356 0.035884"/>
      <mass value="0.005"/>
      <inertia ixx="0.004543e-2" ixy="0.000068e-2" ixz="0.000070e-2" iyy="0.003969e-2" iyz="-0.000074e-2" izz="0.002118e-2"/>
    </inertial>
    <visual>
      <origin rpy="0 0 0" xyz="0 0 0"/>
      <geometry>
        <mesh filename="package://teo_description/meshes/arms/l_wrist_yaw.stl"/>
      </geometry>
      <material name="teoGray"/>
    </visual>
    <collision>
      <origin rpy="0 0 0" xyz="0 0 0"/>
      <geometry>
        <mesh filename="package://teo_description/meshes/arms/l_wrist_yaw.stl"/>
      </geometry>
    </collision>
  </link>
  <link name="l_wrist_pitch_link">
    <inertial>
      <origin rpy="0 0 0" xyz="-0.002438 0.004651 -0.044838"/>
      <mass value="0.3"/>
      <inertia ixx="1.0e-2" ixy="0.0" ixz="0.0" iyy="1.0e-2" iyz="0.0" izz="1.0e-2"/>
    </inertial>
    <visual>
      <origin rpy="0 0 0" xyz="0 0 0"/>
      <geometry>
        <mesh filename="package://teo_description/meshes/arms/l_wrist_pitch.stl"/>
      </geometry>
      <material name="teoGray"/>
    </visual>
    <collision>
      <origin rpy="0 0 0" xyz="0 0 0"/>
      <geometry>
        <mesh filename="package://teo_description/meshes/arms/l_wrist_pitch.stl"/>
      </geometry>
    </collision>
    <visual>
      <origin rpy="0 0 0" xyz="0 0 -0.056"/>
      <geometry>
        <mesh filename="package://teo_description/meshes/arms/l_wrist_sensorFT.stl"/>
      </geometry>
      <material name="teoGray"/>
    </visual>
    <collision>
      <origin rpy="0 0 0" xyz="0 0 -0.056"/>
      <geometry>
        <mesh filename="package://teo_description/meshes/arms/l_wrist_sensorFT.stl"/>
      </geometry>
    </collision>
    <visual>
      <origin rpy="0 0 0" xyz="0 0 -0.056"/>
      <geometry>
        <mesh filename="package://teo_description/meshes/arms/l_hand.stl"/>
      </geometry>
      <material name="teoGray"/>
    </visual>
    <collision>
      <origin rpy="0 0 0" xyz="0 0 -0.056"/>
      <geometry>
        <mesh filename="package://teo_description/meshes/arms/l_hand.stl"/>
      </geometry>
    </collision>
  </link>
  <link name="r_shoulder_pitch_link">
    <inertial>
      <origin rpy="0 0 0" xyz="0.0 -0.0 0.0"/>
      <mass value="0.005"/>
      <inertia ixx="0.059121e-2" ixy="0.000603e-2" ixz="0.000103e-2" iyy="0.024956e-2" iyz="0.005131e-2" izz="0.050653e-2"/>
    </inertial>
    <visual>
      <origin rpy="0 0 0" xyz="0 0 0"/>
      <geometry>
        <mesh filename="package://teo_description/meshes/arms/r_shoulder_pitch.stl"/>
      </geometry>
      <material name="teoGray"/>
    </visual>
    <collision>
      <origin rpy="0 0 0" xyz="0 0 0"/>
      <geometry>
        <mesh filename="package://teo_description/meshes/arms/r_shoulder_pitch.stl"/>
      </geometry>
    </collision>
  </link>
  <link name="r_shoulder_roll_link">
    <inertial>
      <origin rpy="0 0 0" xyz="0.0 -0.0 0.0"/>
      <mass value="0.005"/>
      <inertia ixx="0.018036e-2" ixy="-0.000773e-2" ixz="0.002406e-2" iyy="0.024499e-2" iyz="0.001826e-2" izz="0.013143e-2"/>
    </inertial>
    <visual>
      <origin rpy="0 0 0" xyz="0 0 0"/>
      <geometry>
        <mesh filename="package://teo_description/meshes/arms/r_shoulder_roll.stl"/>
      </geometry>
      <material name="teoGray"/>
    </visual>
    <collision>
      <origin rpy="0 0 0" xyz="0 0 0"/>
      <geometry>
        <mesh filename="package://teo_description/meshes/arms/r_shoulder_roll.stl"/>
      </geometry>
    </collision>
  </link>
  <link name="r_shoulder_yaw_link">
    <inertial>
      <origin rpy="0 0 0" xyz="0.0 -0.0 0.0"/>
      <mass value="1.750625"/>
      <inertia ixx="0.227681e-2" ixy="0.0" ixz="0.0" iyy="0.224821e-2" iyz="-0.000684e-2" izz="0.032283e-2"/>
    </inertial>
    <visual>
      <origin rpy="0 0 0" xyz="0 0 -0.12126"/>
      <geometry>
        <mesh filename="package://teo_description/meshes/arms/r_shoulder_yaw.stl"/>
      </geometry>
      <material name="teoGray"/>
    </visual>
    <collision>
      <origin rpy="0 0 0" xyz="0 0 -0.12126"/>
      <geometry>
        <mesh filename="package://teo_description/meshes/arms/r_shoulder_yaw.stl"/>
      </geometry>
    </collision>
    <visual>
      <origin rpy="0 0 0" xyz="0 0 -0.27651"/>
      <geometry>
        <mesh filename="package://teo_description/meshes/arms/r_humerus.stl"/>
      </geometry>
      <material name="teoGray"/>
    </visual>
    <collision>
      <origin rpy="0 0 0" xyz="0 0 -0.27651"/>
      <geometry>
        <mesh filename="package://teo_description/meshes/arms/r_humerus.stl"/>
      </geometry>
    </collision>
    <visual>
      <origin rpy="0 0 0" xyz="0 0 -0.28351"/>
      <geometry>
        <mesh filename="package://teo_description/meshes/arms/r_union_humerus_elbow.stl"/>
      </geometry>
      <material name="teoGray"/>
    </visual>
    <collision>
      <origin rpy="0 0 0" xyz="0 0 -0.28351"/>
      <geometry>
        <mesh filename="package://teo_description/meshes/arms/r_union_humerus_elbow.stl"/>
      </geometry>
    </collision>
  </link>
  <link name="r_elbow_pitch_link">
    <inertial>
      <origin rpy="0 0 0" xyz="0.0 -0.001 -0.000588"/>
      <mass value="2.396"/>
      <inertia ixx="0.059390e-2" ixy="0.0" ixz="0.0" iyy="0.060871e-2" iyz="-0.0" izz="0.023257e-2"/>
       --&gt;
      
    </inertial>
    <visual>
      <origin rpy="0 0 0" xyz="0 0 0"/>
      <geometry>
        <mesh filename="package://teo_description/meshes/arms/r_elbow_pitch.stl"/>
      </geometry>
      <material name="teoGray"/>
    </visual>
    <collision>
      <origin rpy="0 0 0" xyz="0 0 0"/>
      <geometry>
        <mesh filename="package://teo_description/meshes/arms/r_elbow_pitch.stl"/>
      </geometry>
    </collision>
    <visual>
      <origin rpy="0 0 0" xyz="0 0 -0.11324"/>
      <geometry>
        <mesh filename="package://teo_description/meshes/arms/r_elbow_link.stl"/>
      </geometry>
      <material name="teoGray"/>
    </visual>
    <collision>
      <origin rpy="0 0 0" xyz="0 0 -0.11324"/>
      <geometry>
        <mesh filename="package://teo_description/meshes/arms/r_elbow_link.stl"/>
      </geometry>
    </collision>
    <visual>
      <origin rpy="0 0 0" xyz="0 0 -0.11324"/>
      <geometry>
        <mesh filename="package://teo_description/meshes/arms/r_union_elbow_wrist.stl"/>
      </geometry>
      <material name="teoGray"/>
    </visual>
    <collision>
      <origin rpy="0 0 0" xyz="0 0 -0.11324"/>
      <geometry>
        <mesh filename="package://teo_description/meshes/arms/r_union_elbow_wrist.stl"/>
      </geometry>
    </collision>
  </link>
  <link name="r_wrist_yaw_link">
    <inertial>
      <origin rpy="0 0 0" xyz="-0.004657 0.001356 0.035884"/>
      <mass value="0.005"/>
      <inertia ixx="0.004543e-2" ixy="0.000068e-2" ixz="0.000070e-2" iyy="0.003969e-2" iyz="-0.000074e-2" izz="0.002118e-2"/>
    </inertial>
    <visual>
      <origin rpy="0 0 0" xyz="0 0 0"/>
      <geometry>
        <mesh filename="package://teo_description/meshes/arms/r_wrist_yaw.stl"/>
      </geometry>
      <material name="teoGray"/>
    </visual>
    <collision>
      <origin rpy="0 0 0" xyz="0 0 0"/>
      <geometry>
        <mesh filename="package://teo_description/meshes/arms/r_wrist_yaw.stl"/>
      </geometry>
    </collision>
  </link>
  <link name="r_wrist_pitch_link">
    <inertial>
      <origin rpy="0 0 0" xyz="-0.002438 -0.004651 -0.044838"/>
      <mass value="0.3"/>
      <inertia ixx="1.0e-2" ixy="0.0" ixz="0.0" iyy="1.0e-2" iyz="0.0" izz="1.0e-2"/>
    </inertial>
    <visual>
      <origin rpy="0 0 0" xyz="0 0 0"/>
      <geometry>
        <mesh filename="package://teo_description/meshes/arms/r_wrist_pitch.stl"/>
      </geometry>
      <material name="teoGray"/>
    </visual>
    <collision>
      <origin rpy="0 0 0" xyz="0 0 0"/>
      <geometry>
        <mesh filename="package://teo_description/meshes/arms/r_wrist_pitch.stl"/>
      </geometry>
    </collision>
    <visual>
      <origin rpy="0 0 0" xyz="0 0 -0.056"/>
      <geometry>
        <mesh filename="package://teo_description/meshes/arms/r_wrist_sensorFT.stl"/>
      </geometry>
      <material name="teoGray"/>
    </visual>
    <collision>
      <origin rpy="0 0 0" xyz="0 0 -0.056"/>
      <geometry>
        <mesh filename="package://teo_description/meshes/arms/r_wrist_sensorFT.stl"/>
      </geometry>
    </collision>
    <visual>
      <origin rpy="0 0 0" xyz="0 0 -0.056"/>
      <geometry>
        <mesh filename="package://teo_description/meshes/arms/r_hand.stl"/>
      </geometry>
      <material name="teoGray"/>
    </visual>
    <collision>
      <origin rpy="0 0 0" xyz="0 0 -0.056"/>
      <geometry>
        <mesh filename="package://teo_description/meshes/arms/r_hand.stl"/>
      </geometry>
    </collision>
  </link>
  <joint name="l_shoulder_pitch" type="revolute">
    <parent link="waist_pitch_link"/>
    <child link="l_shoulder_pitch_link"/>
    <origin rpy="0 0 0" xyz="-0.0 0.34692 0.305"/>
    <axis xyz="0 1.0 0"/>
    <limit effort="30.0" lower="-1.2217304764" upper="0.785398163397" velocity="3.0"/>
  </joint>
  <joint name="l_shoulder_roll" type="revolute">
    <parent link="l_shoulder_pitch_link"/>
    <child link="l_shoulder_roll_link"/>
    <origin rpy="0 0 0" xyz="0 0 0"/>
    <axis xyz="1 0 0"/>
    <limit effort="30.0" lower="-0.261799387799" upper="1.2217304764" velocity="3.0"/>
  </joint>
  <joint name="l_shoulder_yaw" type="revolute">
    <parent link="l_shoulder_roll_link"/>
    <child link="l_shoulder_yaw_link"/>
    <origin rpy="0 0 0" xyz="0 0 0"/>
    <axis xyz="0 0 -1"/>
    <limit effort="30.0" lower="-1.308996939" upper="0.174532925199" velocity="3.0"/>
  </joint>
  <joint name="l_elbow_pitch" type="revolute">
    <parent link="l_shoulder_yaw_link"/>
    <child link="l_elbow_pitch_link"/>
    <origin rpy="0 0 0" xyz="0 0 -0.32901"/>
    <axis xyz="0 1.0 0"/>
    <limit effort="30.0" lower="-1.74532925199" upper="0.174532925199" velocity="3.0"/>
  </joint>
  <joint name="l_wrist_yaw" type="revolute">
    <parent link="l_elbow_pitch_link"/>
    <child link="l_wrist_yaw_link"/>
    <origin rpy="0 0 0" xyz="0 0 -0.202"/>
    <axis xyz="0 0 -1"/>
    <limit effort="30.0" lower="-1.57079632679" upper="1.57079632679" velocity="3.0"/>
  </joint>
  <joint name="l_wrist_pitch" type="revolute">
    <parent link="l_wrist_yaw_link"/>
    <child link="l_wrist_pitch_link"/>
    <origin rpy="0 0 0" xyz="0 0 0"/>
    <axis xyz="0 1.0 0"/>
    <limit effort="30.0" lower="-1.74532925199" upper="0.174532925199" velocity="3.0"/>
  </joint>
  <transmission name="l_shoulder_pitch_trans">
    <type>transmission_interface/SimpleTransmission</type>
    <joint name="l_shoulder_pitch">
      <hardwareInterface>PositionJointInterface</hardwareInterface>
    </joint>
    <actuator name="l_shoulder_pitch_motor">
      <hardwareInterface>PositionJointInterface</hardwareInterface>
      <mechanicalReduction>1.0</mechanicalReduction>
    </actuator>
  </transmission>
  <transmission name="l_shoulder_roll_trans">
    <type>transmission_interface/SimpleTransmission</type>
    <joint name="l_shoulder_roll">
      <hardwareInterface>PositionJointInterface</hardwareInterface>
    </joint>
    <actuator name="l_shoulder_roll_motor">
      <hardwareInterface>PositionJointInterface</hardwareInterface>
      <mechanicalReduction>1.0</mechanicalReduction>
    </actuator>
  </transmission>
  <transmission name="l_shoulder_yaw_trans">
    <type>transmission_interface/SimpleTransmission</type>
    <joint name="l_shoulder_yaw">
      <hardwareInterface>PositionJointInterface</hardwareInterface>
    </joint>
    <actuator name="l_shoulder_yaw_motor">
      <hardwareInterface>PositionJointInterface</hardwareInterface>
      <mechanicalReduction>1.0</mechanicalReduction>
    </actuator>
  </transmission>
  <transmission name="l_elbow_pitch_trans">
    <type>transmission_interface/SimpleTransmission</type>
    <joint name="l_elbow_pitch">
      <hardwareInterface>PositionJointInterface</hardwareInterface>
    </joint>
    <actuator name="l_elbow_pitch_motor">
      <hardwareInterface>PositionJointInterface</hardwareInterface>
      <mechanicalReduction>1.0</mechanicalReduction>
    </actuator>
  </transmission>
  <transmission name="l_wrist_yaw_trans">
    <type>transmission_interface/SimpleTransmission</type>
    <joint name="l_wrist_yaw">
      <hardwareInterface>PositionJointInterface</hardwareInterface>
    </joint>
    <actuator name="l_wrist_yaw_motor">
      <hardwareInterface>PositionJointInterface</hardwareInterface>
      <mechanicalReduction>1.0</mechanicalReduction>
    </actuator>
  </transmission>
  <transmission name="l_wrist_pitch_trans">
    <type>transmission_interface/SimpleTransmission</type>
    <joint name="l_wrist_pitch">
      <hardwareInterface>PositionJointInterface</hardwareInterface>
    </joint>
    <actuator name="l_wrist_pitch_motor">
      <hardwareInterface>PositionJointInterface</hardwareInterface>
      <mechanicalReduction>1.0</mechanicalReduction>
    </actuator>
  </transmission>
  <joint name="r_shoulder_pitch" type="revolute">
    <parent link="waist_pitch_link"/>
    <child link="r_shoulder_pitch_link"/>
    <origin rpy="0 0 0" xyz="-0.0 -0.34692 0.305"/>
    <axis xyz="0 -1.0 0"/>
    <limit effort="30.0" lower="-0.785398163397" upper="1.2217304764" velocity="3.0"/>
  </joint>
  <joint name="r_shoulder_roll" type="revolute">
    <parent link="r_shoulder_pitch_link"/>
    <child link="r_shoulder_roll_link"/>
    <origin rpy="0 0 0" xyz="0 0 0"/>
    <axis xyz="1 0 0"/>
    <limit effort="30.0" lower="-1.2217304764" upper="0.261799387799" velocity="3.0"/>
  </joint>
  <joint name="r_shoulder_yaw" type="revolute">
    <parent link="r_shoulder_roll_link"/>
    <child link="r_shoulder_yaw_link"/>
    <origin rpy="0 0 0" xyz="0 0 0"/>
    <axis xyz="0 0 -1"/>
    <limit effort="30.0" lower="-0.174532925199" upper="1.308996939" velocity="3.0"/>
  </joint>
  <joint name="r_elbow_pitch" type="revolute">
    <parent link="r_shoulder_yaw_link"/>
    <child link="r_elbow_pitch_link"/>
    <origin rpy="0 0 0" xyz="0 0 -0.32901"/>
    <axis xyz="0 -1.0 0"/>
    <limit effort="30.0" lower="-0.174532925199" upper="1.74532925199" velocity="3.0"/>
  </joint>
  <joint name="r_wrist_yaw" type="revolute">
    <parent link="r_elbow_pitch_link"/>
    <child link="r_wrist_yaw_link"/>
    <origin rpy="0 0 0" xyz="0 0 -0.202"/>
    <axis xyz="0 0 -1"/>
    <limit effort="30.0" lower="-1.57079632679" upper="1.57079632679" velocity="3.0"/>
  </joint>
  <joint name="r_wrist_pitch" type="revolute">
    <parent link="r_wrist_yaw_link"/>
    <child link="r_wrist_pitch_link"/>
    <origin rpy="0 0 0" xyz="0 0 0"/>
    <axis xyz="0 -1.0 0"/>
    <limit effort="30.0" lower="-0.174532925199" upper="1.74532925199" velocity="3.0"/>
  </joint>
  <transmission name="r_shoulder_pitch_trans">
    <type>transmission_interface/SimpleTransmission</type>
    <joint name="r_shoulder_pitch">
      <hardwareInterface>PositionJointInterface</hardwareInterface>
    </joint>
    <actuator name="r_shoulder_pitch_motor">
      <hardwareInterface>PositionJointInterface</hardwareInterface>
      <mechanicalReduction>1.0</mechanicalReduction>
    </actuator>
  </transmission>
  <transmission name="r_shoulder_roll_trans">
    <type>transmission_interface/SimpleTransmission</type>
    <joint name="r_shoulder_roll">
      <hardwareInterface>PositionJointInterface</hardwareInterface>
    </joint>
    <actuator name="r_shoulder_roll_motor">
      <hardwareInterface>PositionJointInterface</hardwareInterface>
      <mechanicalReduction>1.0</mechanicalReduction>
    </actuator>
  </transmission>
  <transmission name="r_shoulder_yaw_trans">
    <type>transmission_interface/SimpleTransmission</type>
    <joint name="r_shoulder_yaw">
      <hardwareInterface>PositionJointInterface</hardwareInterface>
    </joint>
    <actuator name="r_shoulder_yaw_motor">
      <hardwareInterface>PositionJointInterface</hardwareInterface>
      <mechanicalReduction>1.0</mechanicalReduction>
    </actuator>
  </transmission>
  <transmission name="r_elbow_pitch_trans">
    <type>transmission_interface/SimpleTransmission</type>
    <joint name="r_elbow_pitch">
      <hardwareInterface>PositionJointInterface</hardwareInterface>
    </joint>
    <actuator name="r_elbow_pitch_motor">
      <hardwareInterface>PositionJointInterface</hardwareInterface>
      <mechanicalReduction>1.0</mechanicalReduction>
    </actuator>
  </transmission>
  <transmission name="r_wrist_yaw_trans">
    <type>transmission_interface/SimpleTransmission</type>
    <joint name="r_wrist_yaw">
      <hardwareInterface>PositionJointInterface</hardwareInterface>
    </joint>
    <actuator name="r_wrist_yaw_motor">
      <hardwareInterface>PositionJointInterface</hardwareInterface>
      <mechanicalReduction>1.0</mechanicalReduction>
    </actuator>
  </transmission>
  <transmission name="r_wrist_pitch_trans">
    <type>transmission_interface/SimpleTransmission</type>
    <joint name="r_wrist_pitch">
      <hardwareInterface>PositionJointInterface</hardwareInterface>
    </joint>
    <actuator name="r_wrist_pitch_motor">
      <hardwareInterface>PositionJointInterface</hardwareInterface>
      <mechanicalReduction>1.0</mechanicalReduction>
    </actuator>
  </transmission>
 
  <!-- TEO visualization -->
  <!--xacro:unless complete_vis="$(arg complete_vis)">
    <xacro:include filename="$(find teo_description)/urdf/others/visualization.xacro" />
  </xacro:unless-->
  <!--xacro:include filename="$(find teo_description)/urdf/visual.xacro" /-->
  <material name="teoGray">
    <color rgba="0.6 0.6 0.55 1"/>
  </material>
  <material name="teoBlue">
    <color rgba="0.1 0.1 1.0 1"/>
  </material>
  <material name="teoBlack">
    <color rgba="0.0 0.0 0.0 1"/>
  </material>
</robot>
